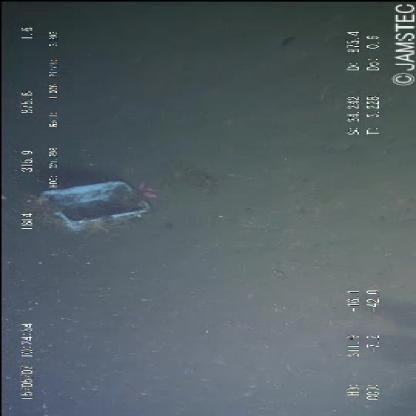Rác: (21, 176, 156, 236)
